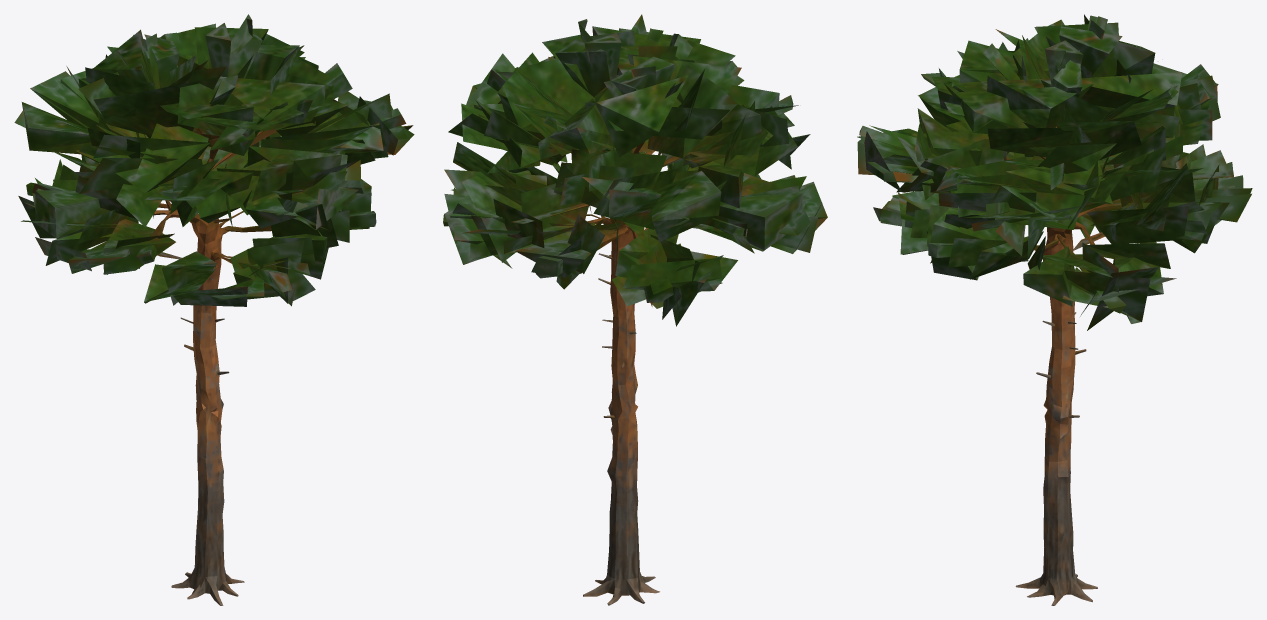
The model's file is tree_pine.glb.
3 renders of one model, left to right at view 1: azimuth 30°, elevation 25°; view 2: azimuth 150°, elevation 25°; view 3: azimuth 270°, elevation 25°, orthographic.
Parts seen in each view (by area): view 1: geometry_0; view 2: geometry_0; view 3: geometry_0.
Boxes of the visible parts, x1,y1,x2,y2 form: geometry_0: (14, 14, 414, 605); geometry_0: (443, 14, 827, 605); geometry_0: (857, 14, 1252, 605).
Bounding box in the file's own units: 0.6367 × 0.9517 × 0.6089.
Materials: 1 (1 with a texture image).
